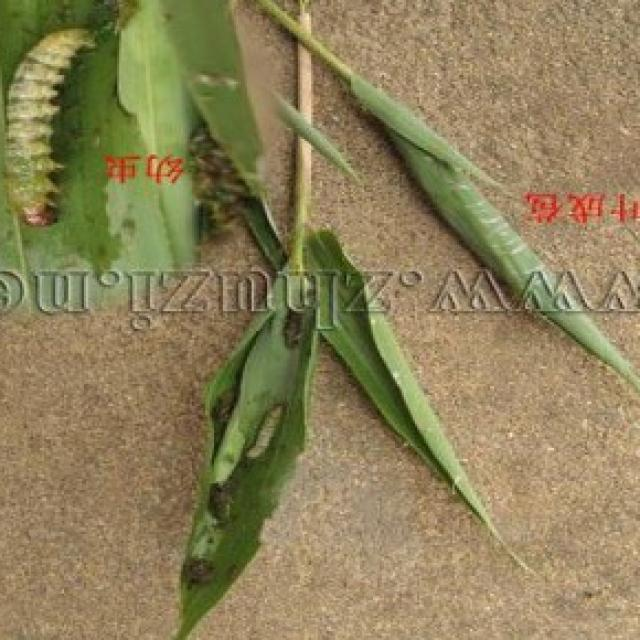rice leaf roller: (9, 29, 95, 225), (183, 477, 232, 589), (249, 408, 280, 459), (212, 388, 238, 433), (285, 313, 298, 344)
